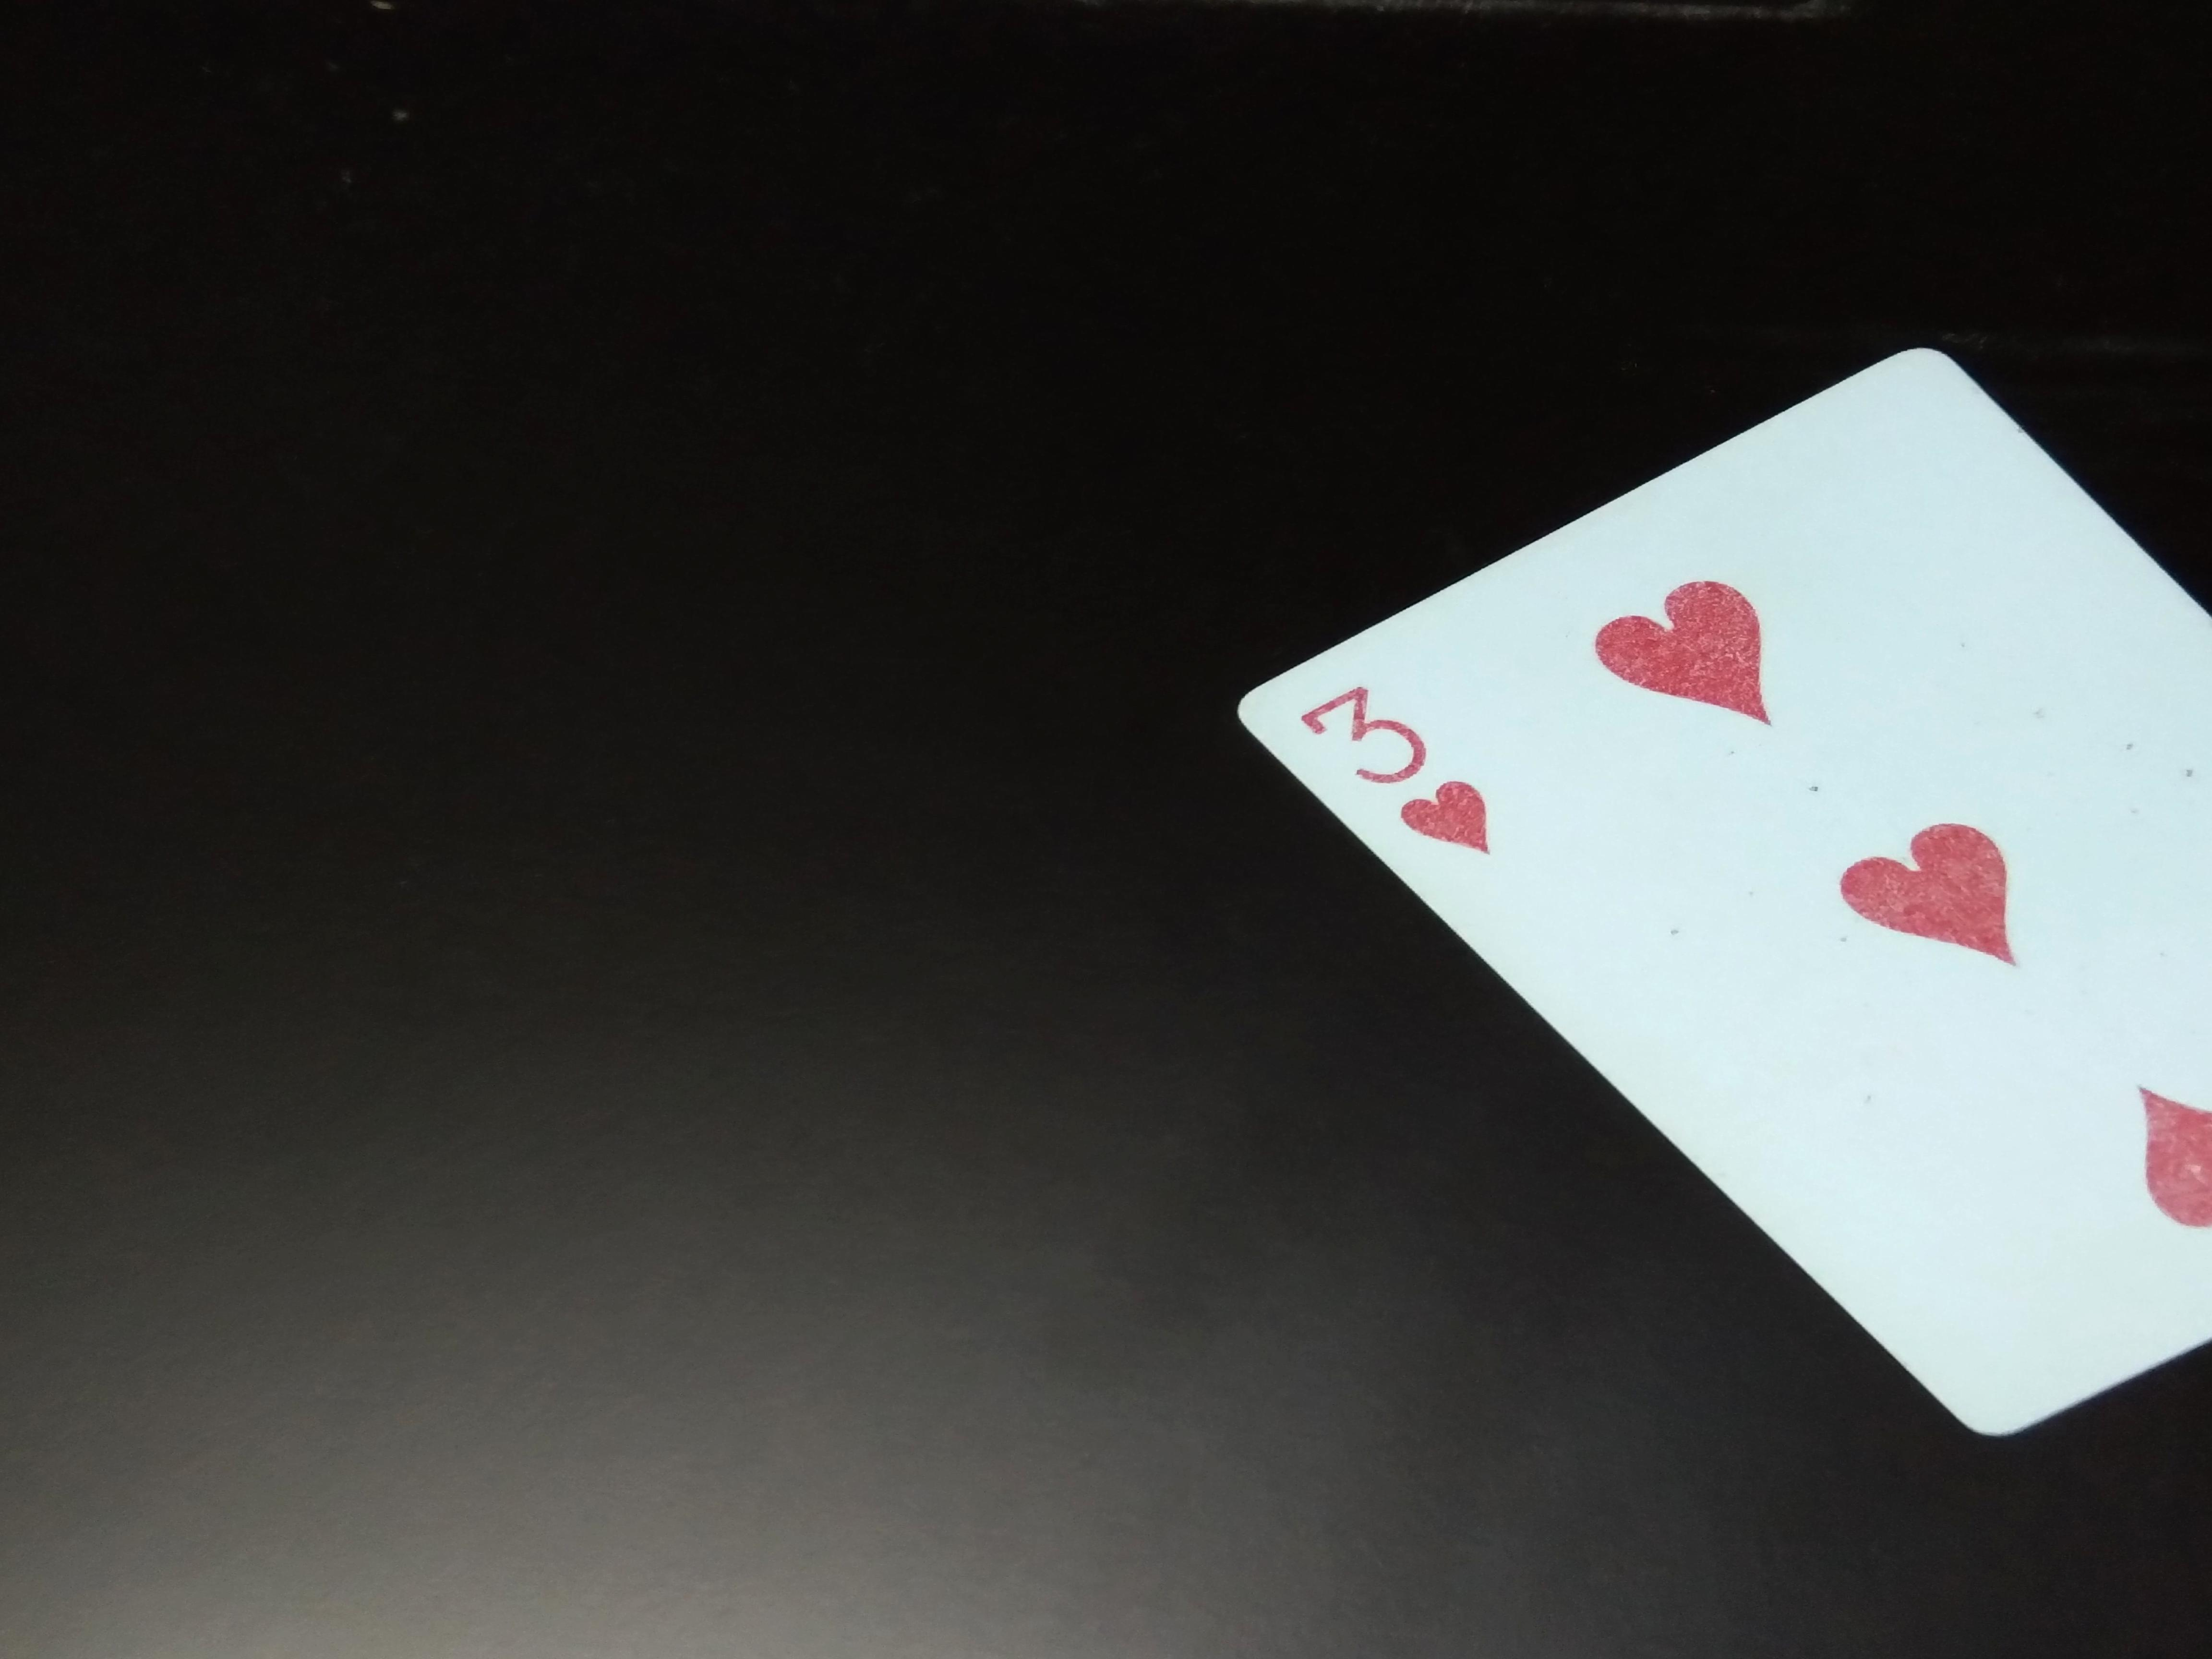3H: (1296, 673, 1554, 896)
